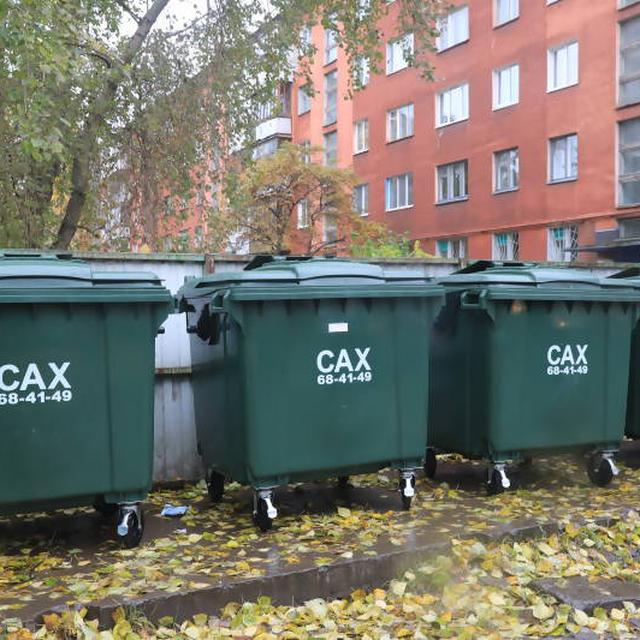Trash_Can_Closed: (179, 260, 445, 486), (0, 252, 175, 502), (437, 267, 640, 457)
